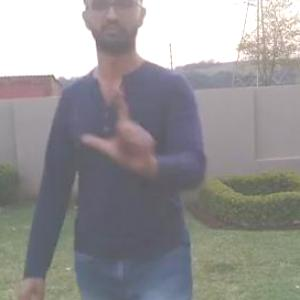land_hand: (80, 80, 166, 174)
